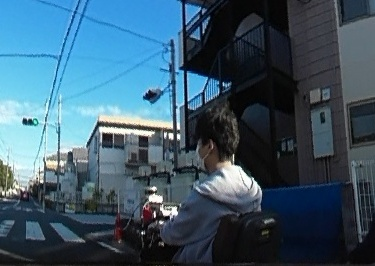person: (171, 109, 268, 266)
